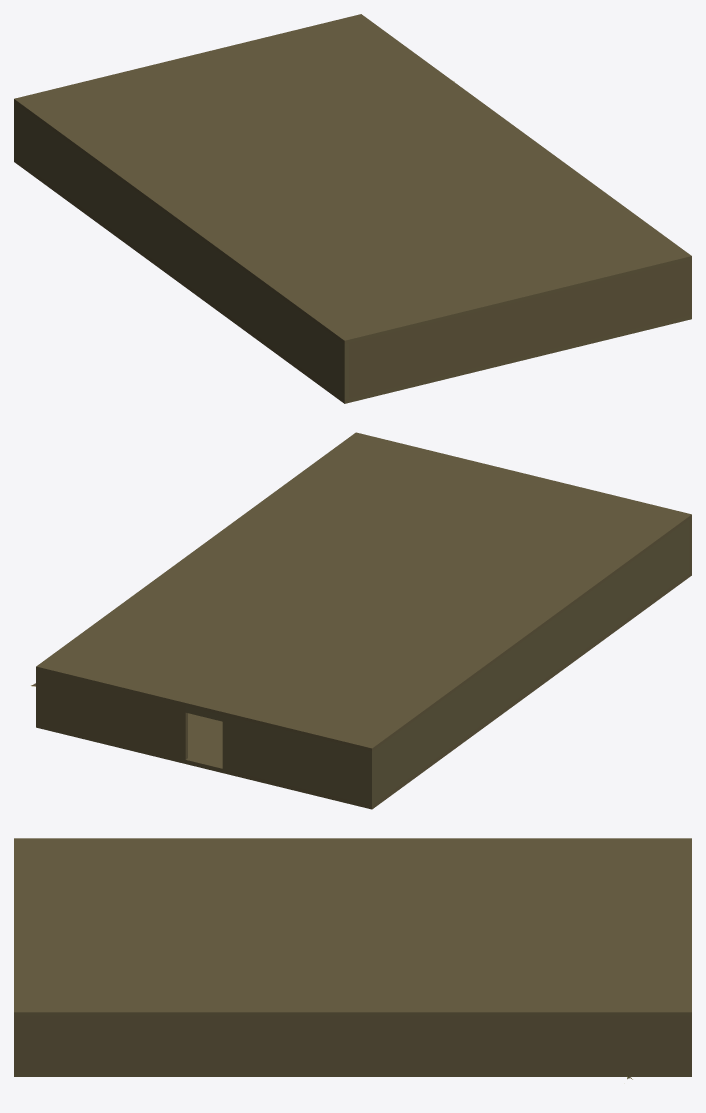
3 views of the same model, one above another, from view 1: azimuth 30°, elevation 25°; view 2: azimuth 150°, elevation 25°; view 3: azimuth 270°, elevation 25° (orthographic). The views are drawn at different scales.
Parts seen in each view (by area): view 1: geometry_0; view 2: geometry_0; view 3: geometry_0.
Part boxes in pixels (x1=…): geometry_0: x1=14, y1=14, x2=691, y2=403; geometry_0: x1=31, y1=432, x2=691, y2=809; geometry_0: x1=14, y1=838, x2=691, y2=1079.
Bounding box in the file's own units: 19.36 × 2.85 × 27.04.
